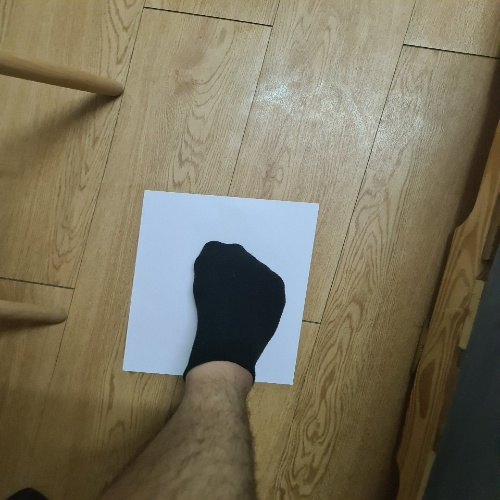Top_Foot: (112, 176, 327, 408)
